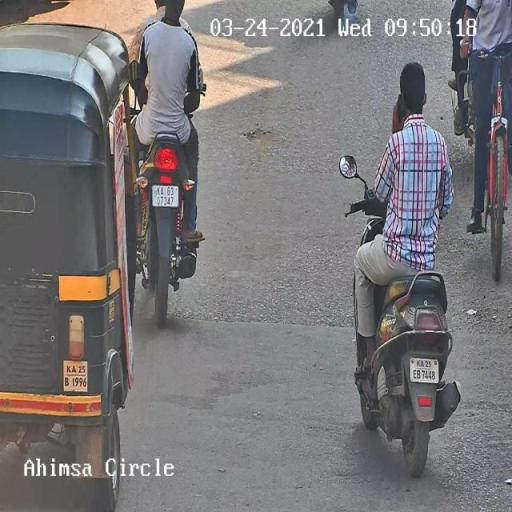numberplate: (410, 358, 440, 383)
using mobile: (390, 91, 408, 130)
